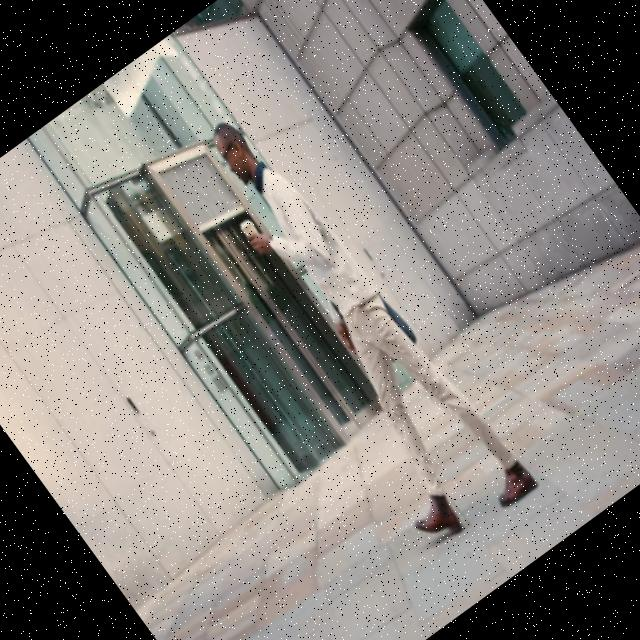Person: (156, 96, 538, 558)
